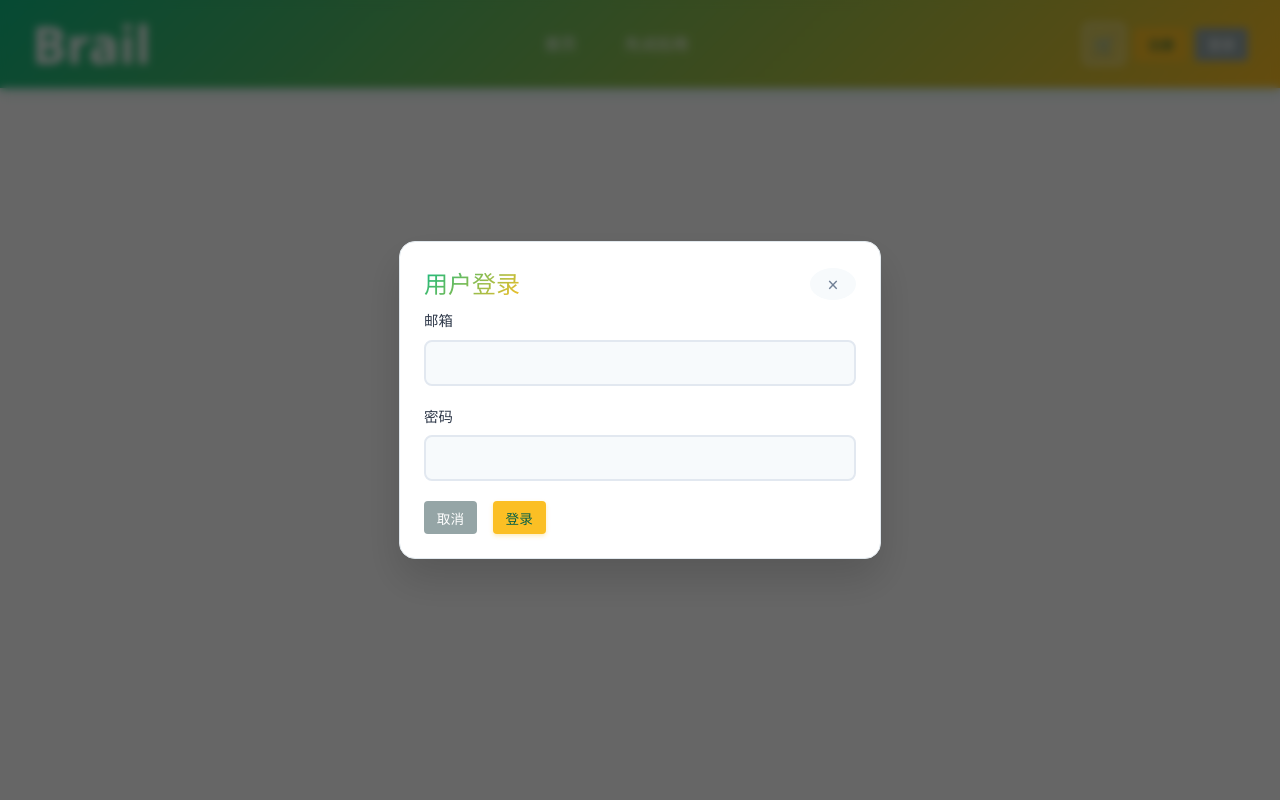
Test: Header.vue 注册功能单元测试 › 登录功能测试 › 登录失败时应该显示错误消息
Type "wrong@example.com" into the field with id "loginEmail". click: (640, 363)
box: [424,340,856,386]
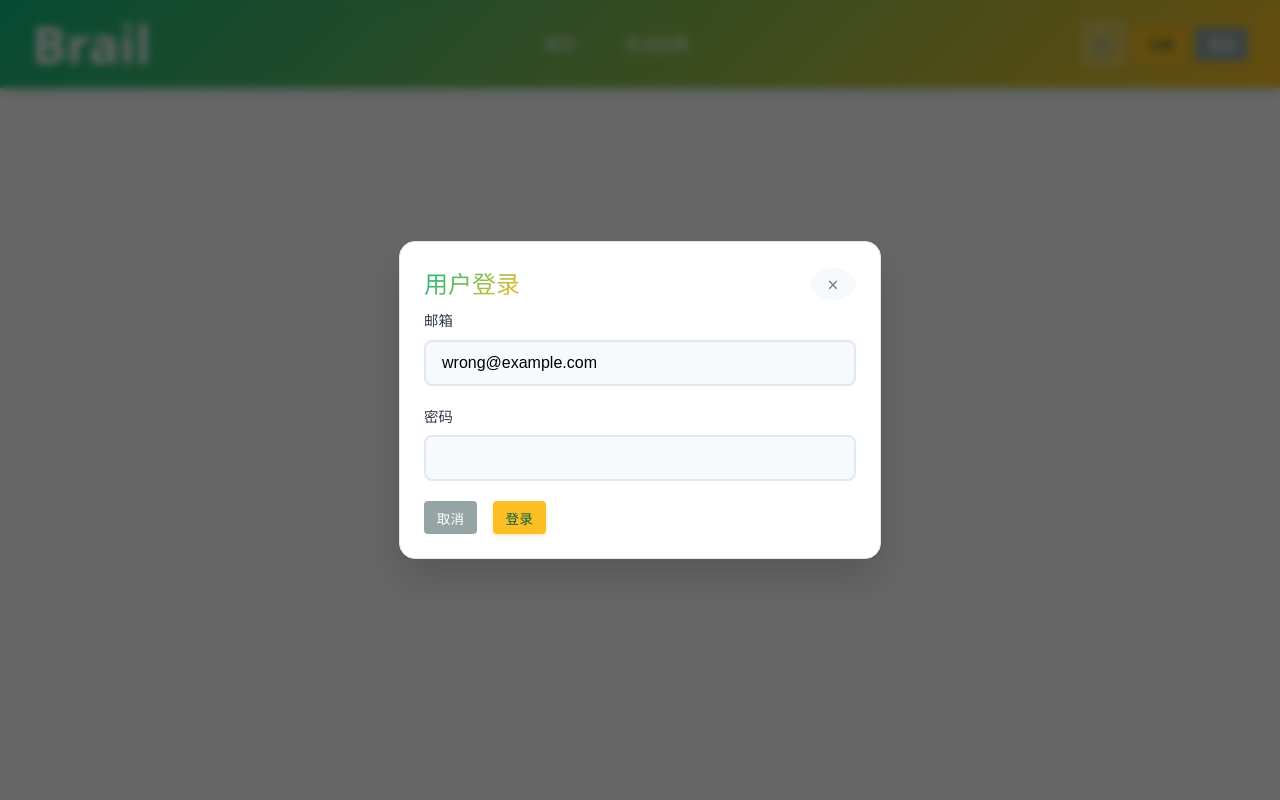
Type "wrongpassword" into the password field with id "loginPassword". click: (640, 458)
box: [424,435,856,481]
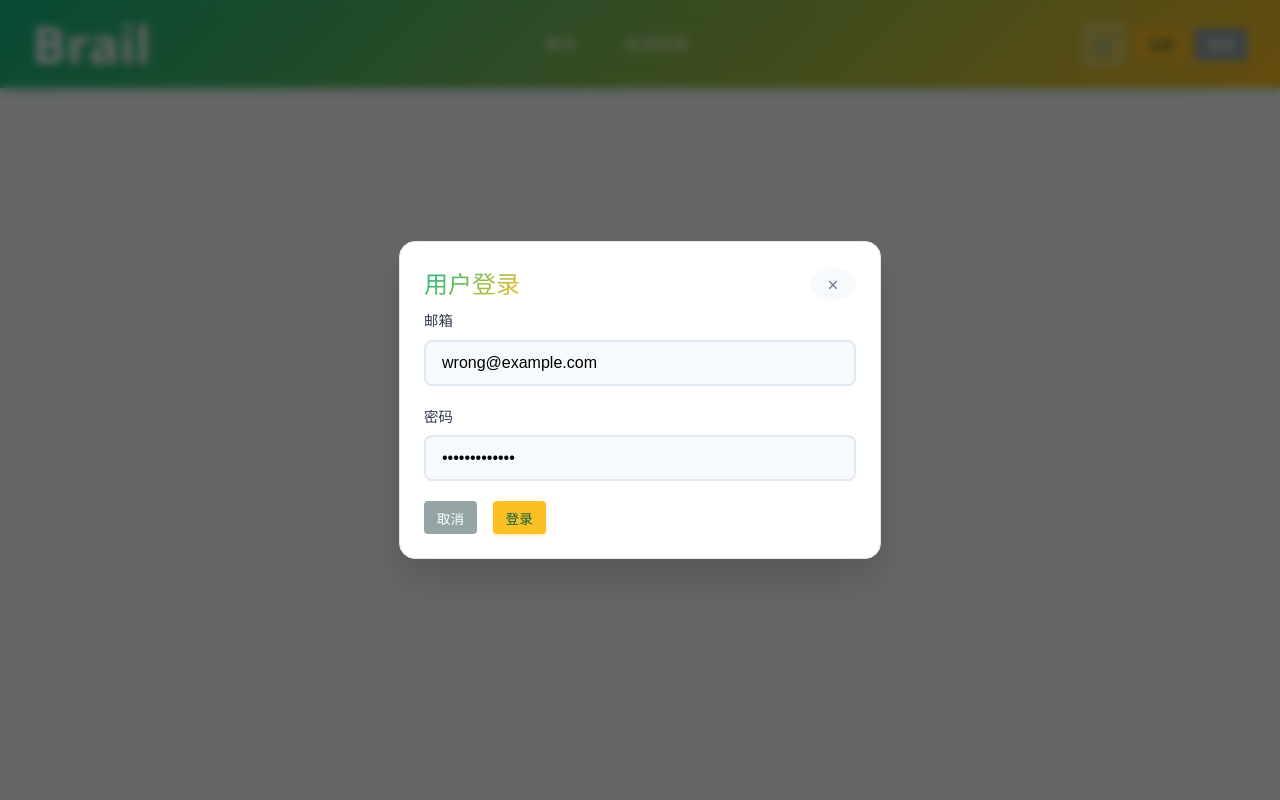
Submit the form with class "login-form", box [400,310,880,558]
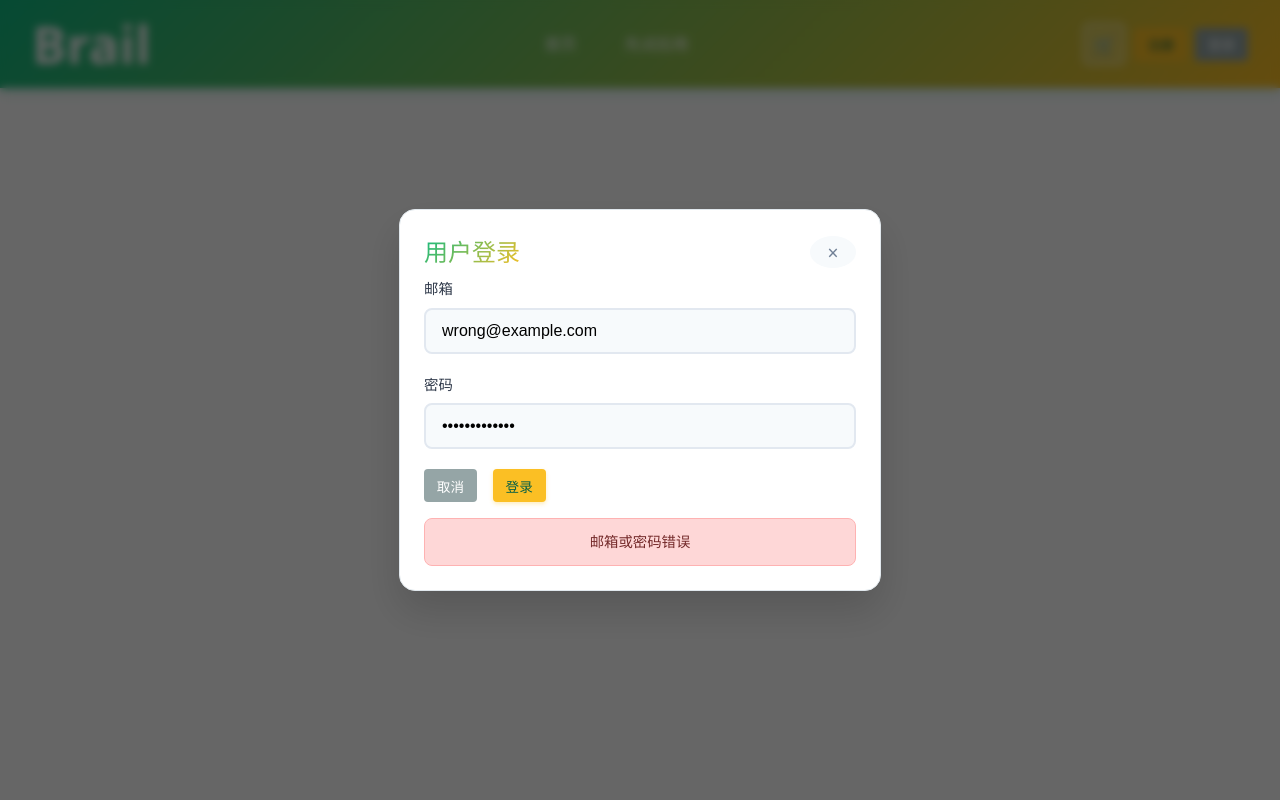
Expected: the text with class "error" reads "邮箱或密码错误", [590,532,690,551]
